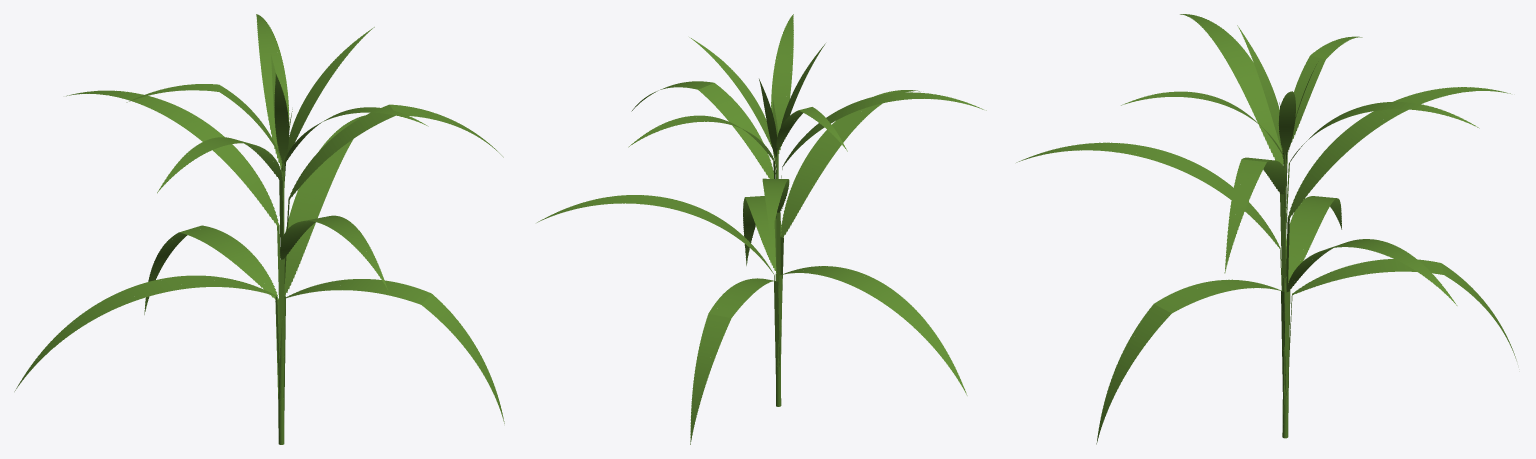
The model's file is maize_004_day_090.dae.
3 views of the same model, side by side, from view 1: azimuth 30°, elevation 25°; view 2: azimuth 150°, elevation 25°; view 3: azimuth 270°, elevation 25° (orthographic). The views are drawn at different scales.
Visible parts, largest first — view 1: node; view 2: node; view 3: node.
Boxes of the visible parts, <box> form: node: <box>14,14,504,444</box>; node: <box>537,14,986,444</box>; node: <box>1016,14,1516,444</box>.
Bounding box in the file's own units: 1.6 × 1.39 × 1.61.
1 material, 1 textured.
